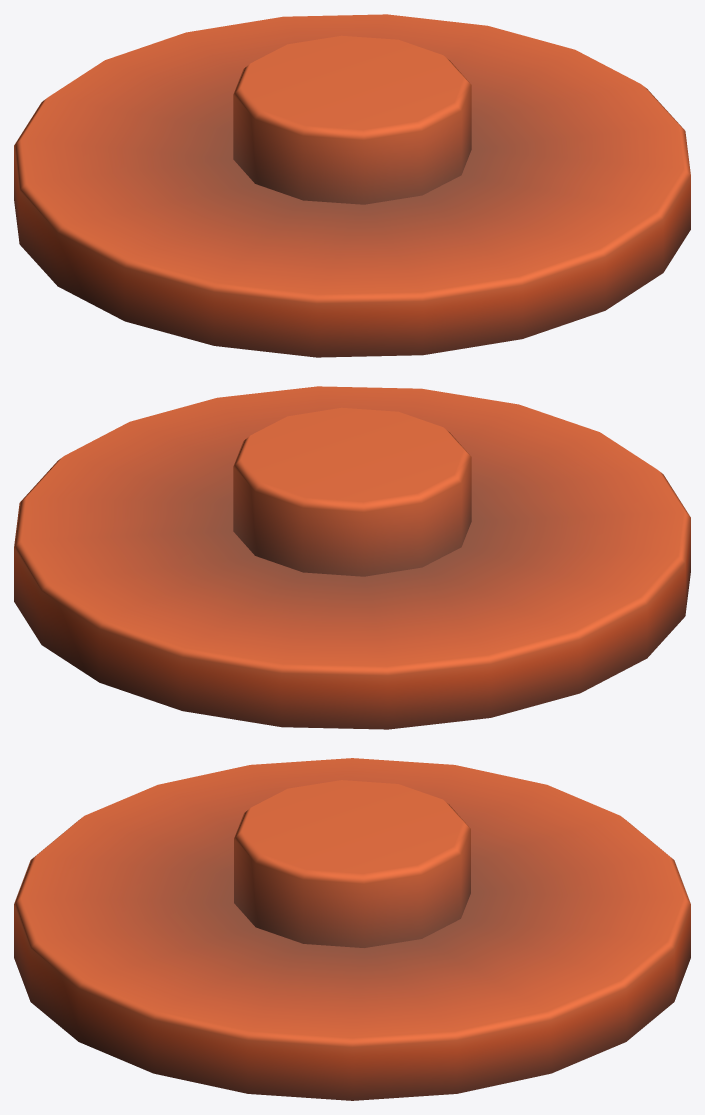
The model's file is meltingpot_001_003.fbx.
3 renders of one model, top to bottom at view 1: azimuth 30°, elevation 25°; view 2: azimuth 150°, elevation 25°; view 3: azimuth 270°, elevation 25°, orthographic.
Visible parts, largest first — view 1: meltingpot_001_003; view 2: meltingpot_001_003; view 3: meltingpot_001_003.
Boxes of the visible parts, x1,y1,x2,y2 form: meltingpot_001_003: [14, 14, 690, 357]; meltingpot_001_003: [14, 386, 690, 729]; meltingpot_001_003: [14, 758, 690, 1100].
Size of the model in its own units: 695 by 695 by 148.
